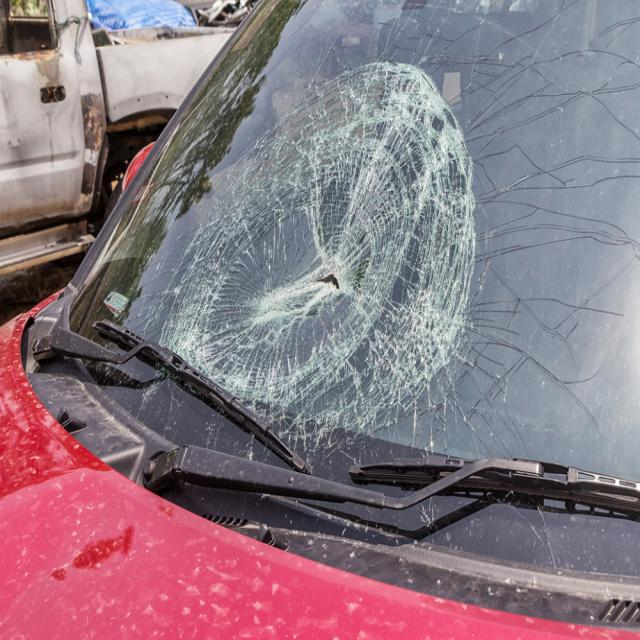Windshield: (135, 22, 600, 591)
